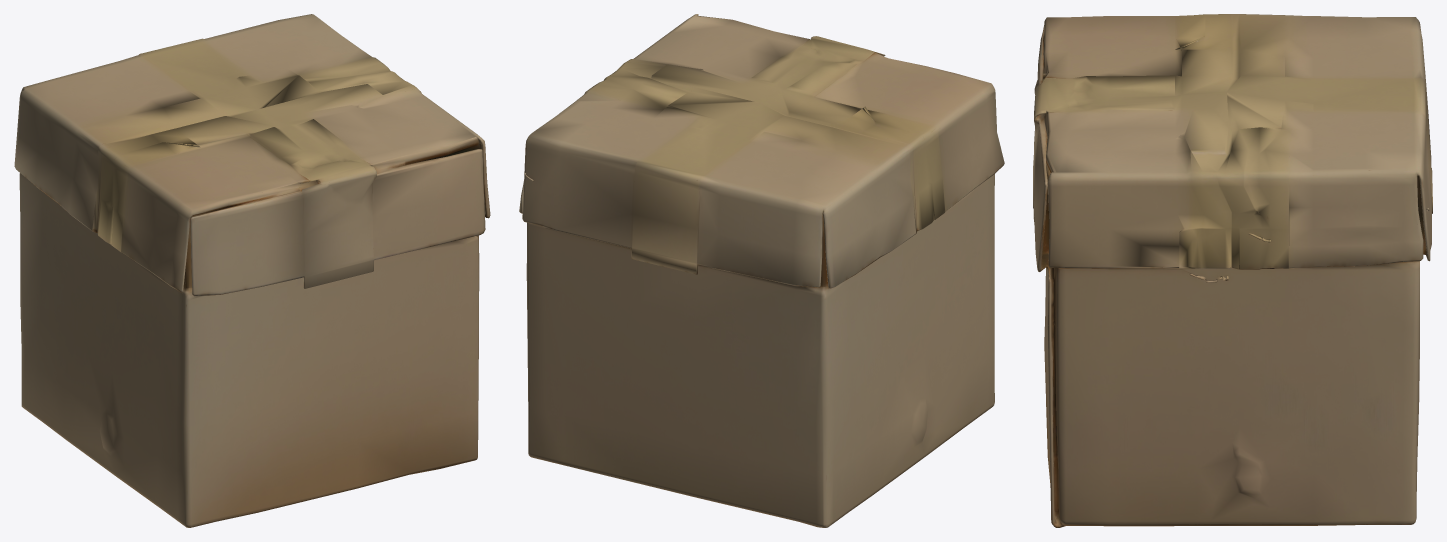
3 views of the same model, side by side, from view 1: azimuth 30°, elevation 25°; view 2: azimuth 150°, elevation 25°; view 3: azimuth 270°, elevation 25° (orthographic). The views are drawn at different scales.
Visible parts, largest first — view 1: tripo_node_66999eb5-7a1c-472f-918c-0a9bb1358fbe; view 2: tripo_node_66999eb5-7a1c-472f-918c-0a9bb1358fbe; view 3: tripo_node_66999eb5-7a1c-472f-918c-0a9bb1358fbe.
Part boxes in pixels (x1,y1,x2,y2): tripo_node_66999eb5-7a1c-472f-918c-0a9bb1358fbe: (14,14,490,527); tripo_node_66999eb5-7a1c-472f-918c-0a9bb1358fbe: (519,14,1004,527); tripo_node_66999eb5-7a1c-472f-918c-0a9bb1358fbe: (1033,14,1432,527).
Size of the model in its own units: 0.55 by 0.55 by 0.55.
Materials: 1 (1 with a texture image).
